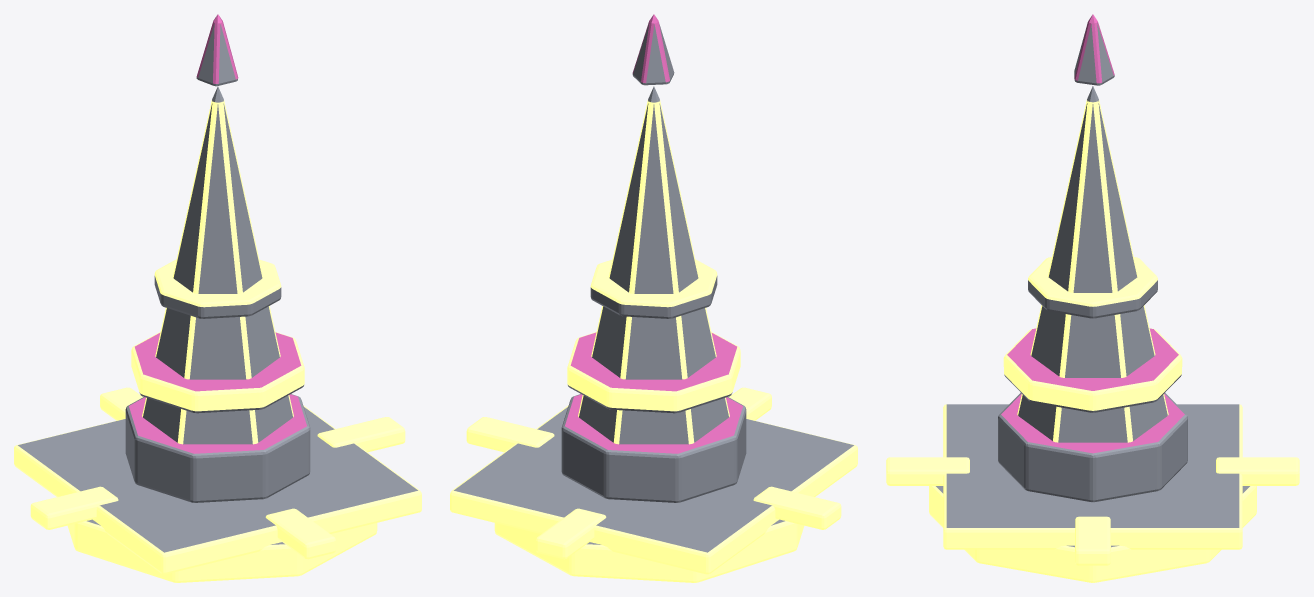
File: Arena_Hazard_Spike.fbx
The picture shows the model from 3 angles, left to right: view 1: azimuth 30°, elevation 25°; view 2: azimuth 150°, elevation 25°; view 3: azimuth 270°, elevation 25°; orthographic projection.
Visible parts, largest first — view 1: Arena_Hazard_Spike; view 2: Arena_Hazard_Spike; view 3: Arena_Hazard_Spike.
Part boxes in pixels (x1,y1,x2,y2): Arena_Hazard_Spike: (14, 14, 421, 582); Arena_Hazard_Spike: (450, 14, 857, 582); Arena_Hazard_Spike: (886, 14, 1299, 582).
Size of the model in its own units: 1.38 by 1.85 by 1.38.
